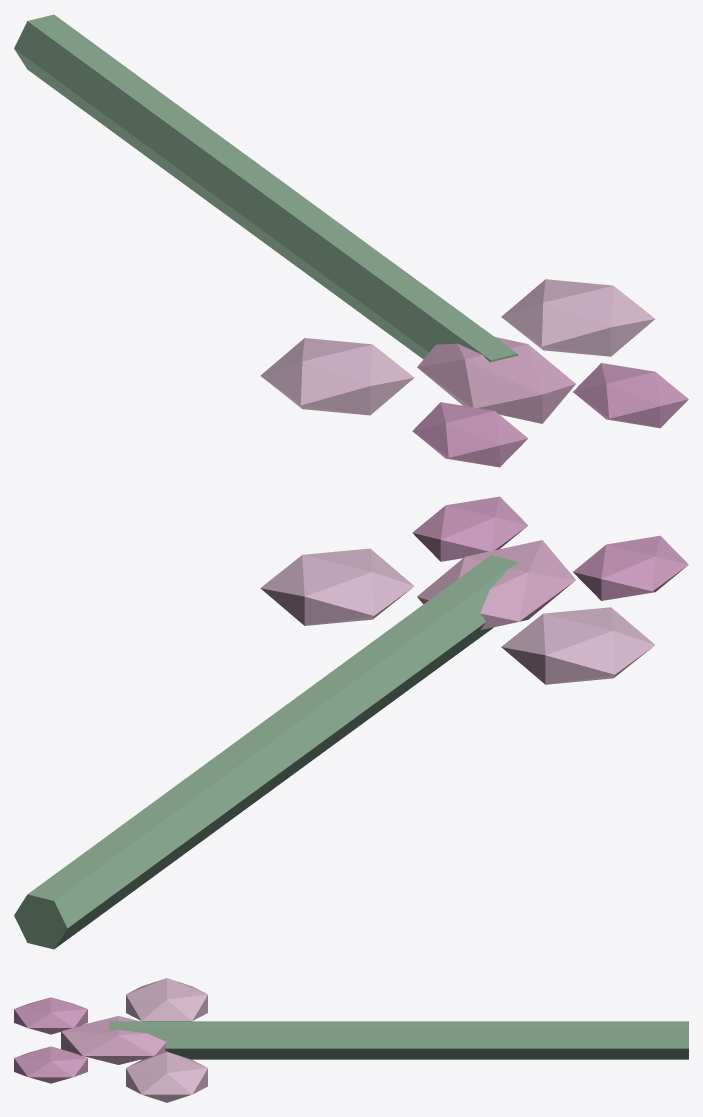
File: orchid.glb
The picture shows the model from 3 angles, top to bottom: view 1: azimuth 30°, elevation 25°; view 2: azimuth 150°, elevation 25°; view 3: azimuth 270°, elevation 25°; orthographic projection. The views are drawn at different scales.
Parts seen in each view (by area): view 1: world; view 2: world; view 3: world.
Boxes of the visible parts, x1,y1,x2,y2 form: world: (14,14,688,467); world: (14,496,688,949); world: (14,978,688,1102).
Bounding box in the file's own units: 0.5301 × 0.0693 × 1.4.
